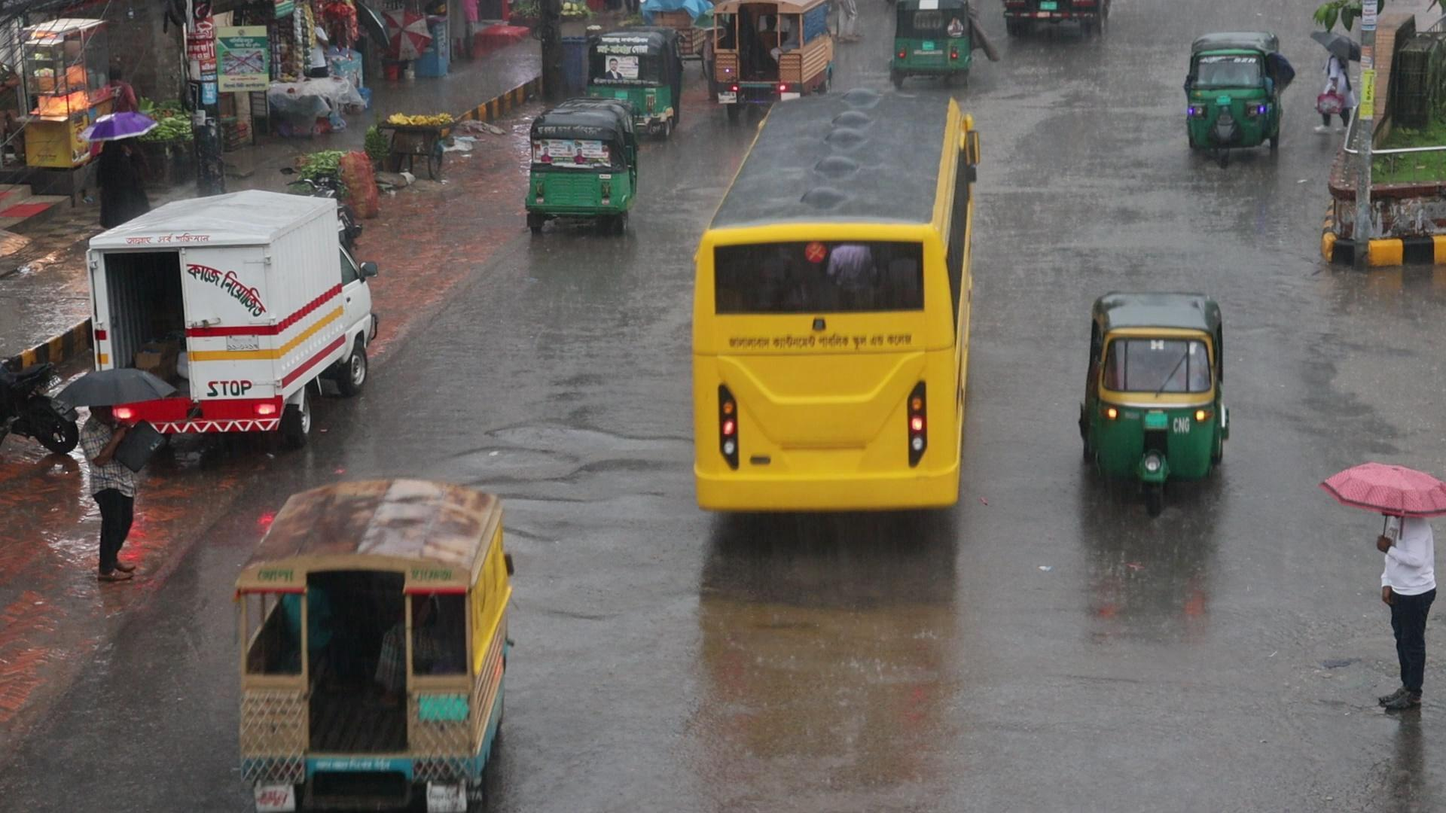Bus: (688, 82, 982, 517)
Truck: (231, 467, 515, 813), (709, 0, 834, 94)
